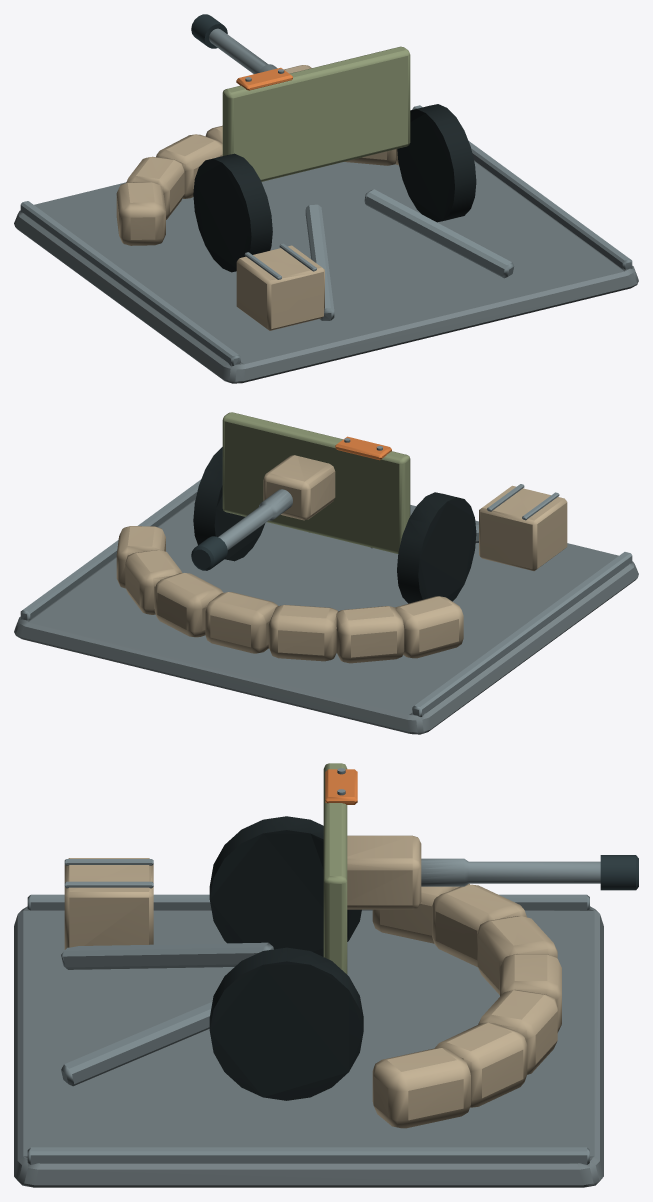
File: RoadblockGun.glb
The picture shows the model from 3 angles, top to bottom: view 1: azimuth 30°, elevation 25°; view 2: azimuth 150°, elevation 25°; view 3: azimuth 270°, elevation 25°; orthographic projection. The views are drawn at different scales.
Parts seen in each view (by area): view 1: export_RoadblockGun_GravelPad, export_RoadblockGun_GunWheel, export_RoadblockGun_Mantlet; view 2: export_RoadblockGun_GravelPad, export_RoadblockGun_GunWheel, export_RoadblockGun_Mantlet; view 3: export_RoadblockGun_GravelPad, export_RoadblockGun_GunWheel, export_RoadblockGun_Mantlet.
Part boxes in pixels (bbox=[...]): export_RoadblockGun_GravelPad: bbox=[14, 105, 638, 383]; export_RoadblockGun_GunWheel: bbox=[193, 46, 514, 320]; export_RoadblockGun_Mantlet: bbox=[191, 14, 311, 73]; export_RoadblockGun_GravelPad: bbox=[14, 479, 638, 734]; export_RoadblockGun_GunWheel: bbox=[193, 412, 478, 603]; export_RoadblockGun_Mantlet: bbox=[191, 455, 335, 570]; export_RoadblockGun_GravelPad: bbox=[14, 858, 603, 1187]; export_RoadblockGun_GunWheel: bbox=[61, 763, 363, 1100]; export_RoadblockGun_Mantlet: bbox=[347, 835, 638, 909].
Bounding box in the file's own units: 4.28 × 1.81 × 4.22.
